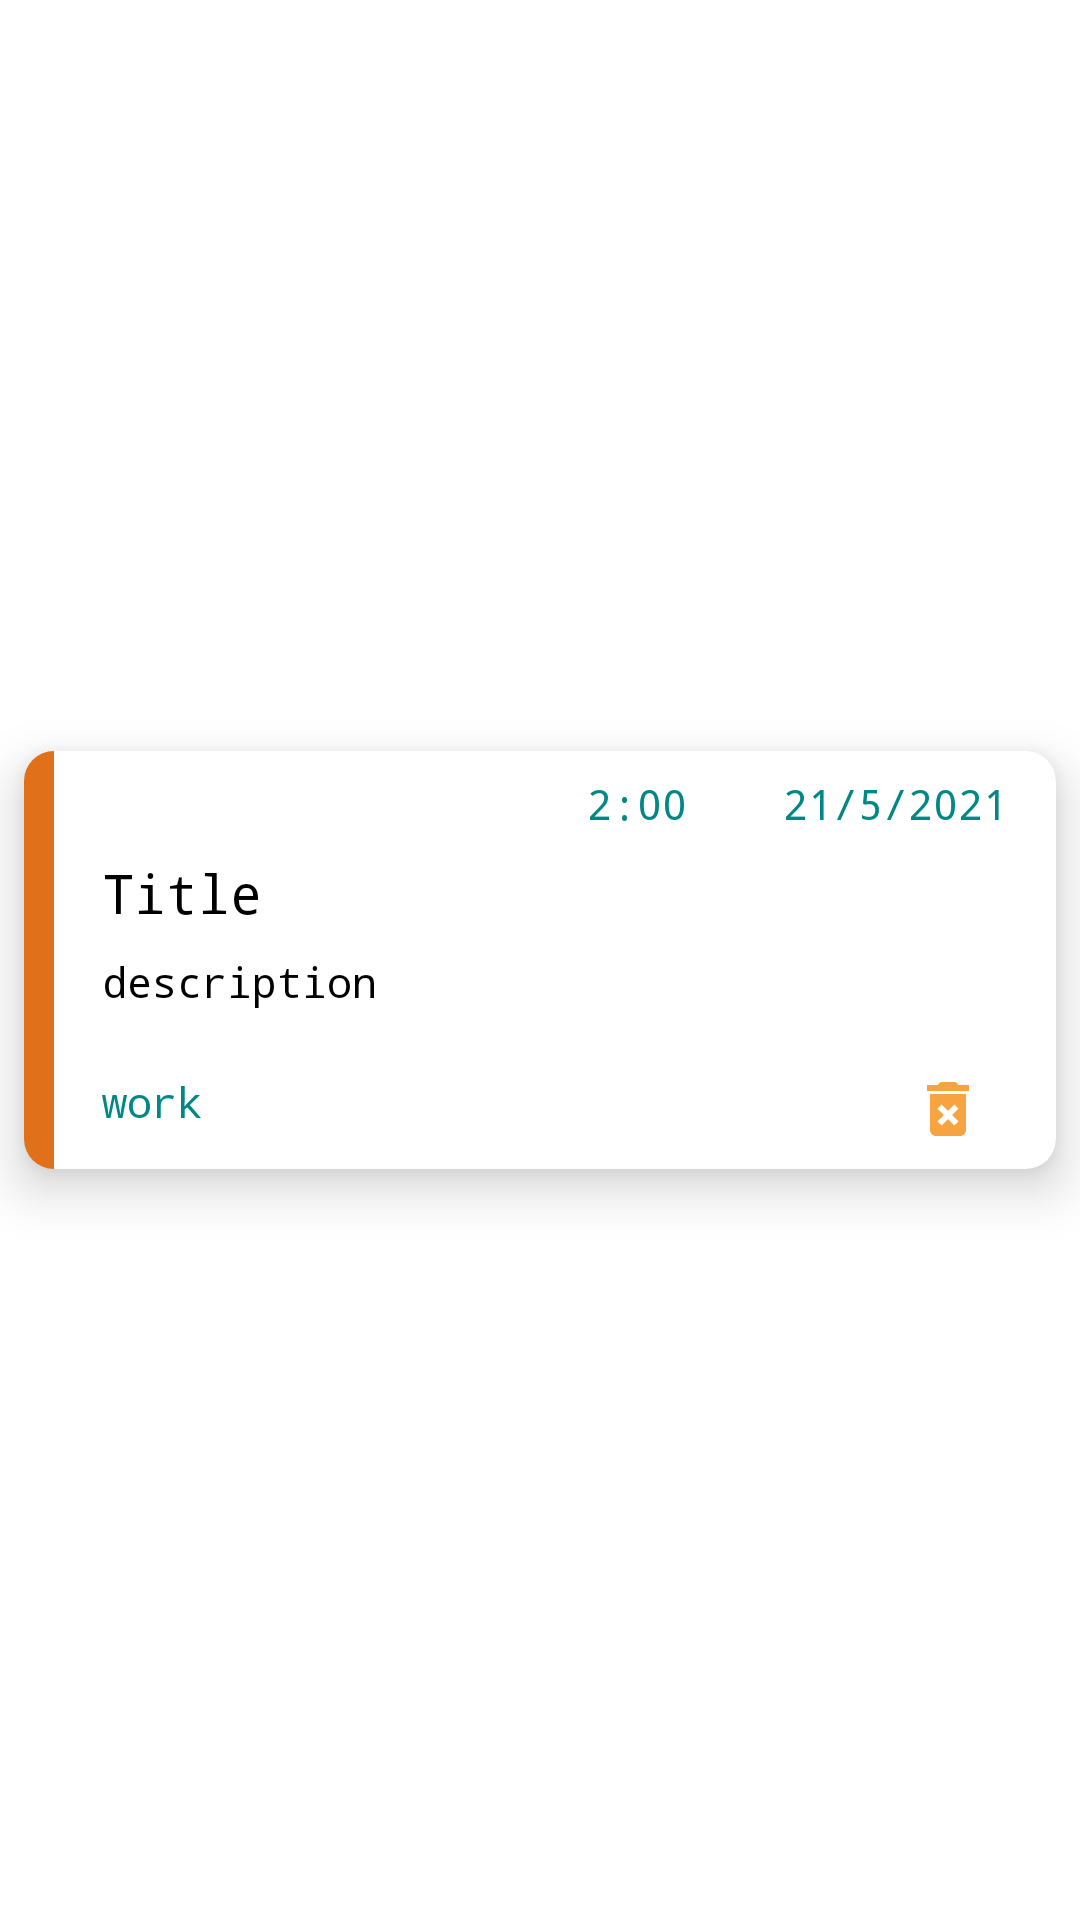

Screen size 1080 x 1920. Icon name, then its box in pixels as (x1, y1, x2, y2):
delete forever: (927, 1082, 969, 1136)
